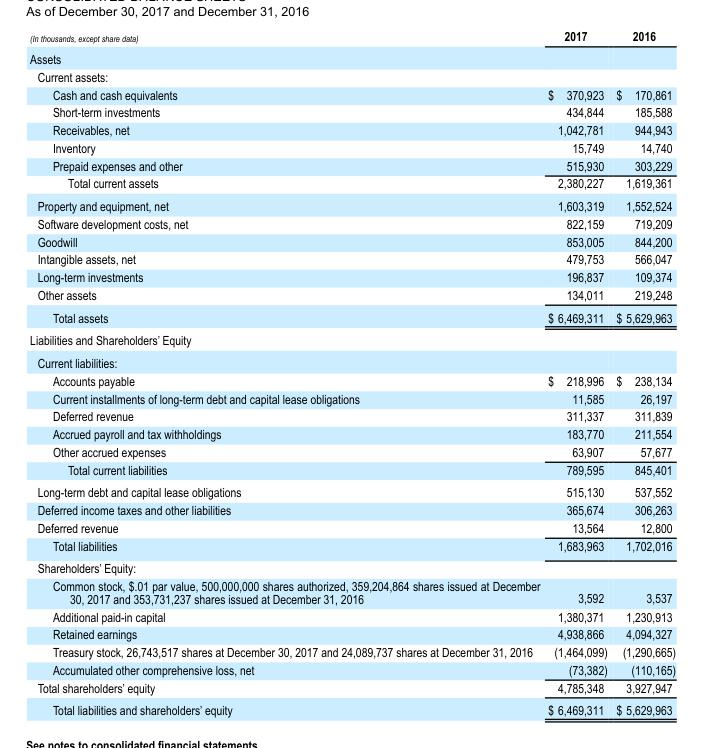table: (29, 28, 675, 717)
table column: (29, 28, 543, 717), (543, 28, 611, 717), (611, 28, 675, 717)
table column header: (29, 28, 675, 47)
table projected row header: (29, 328, 675, 351), (29, 47, 675, 67), (29, 351, 675, 371), (29, 556, 675, 576), (29, 67, 675, 85)
table row: (29, 576, 675, 607), (29, 305, 675, 328), (29, 328, 675, 351), (29, 173, 675, 194), (29, 47, 675, 67), (29, 194, 675, 214), (29, 285, 675, 305), (29, 351, 675, 371), (29, 460, 675, 480), (29, 480, 675, 500), (29, 536, 675, 556), (29, 556, 675, 576), (29, 678, 675, 698), (29, 28, 675, 47), (29, 698, 675, 717), (29, 67, 675, 85), (29, 85, 675, 103), (29, 120, 675, 138), (29, 138, 675, 156), (29, 214, 675, 232), (29, 249, 675, 267), (29, 267, 675, 285), (29, 371, 675, 389), (29, 389, 675, 407), (29, 424, 675, 442), (29, 442, 675, 460), (29, 500, 675, 518), (29, 518, 675, 536), (29, 624, 675, 642), (29, 642, 675, 660), (29, 660, 675, 678), (29, 103, 675, 120), (29, 156, 675, 173), (29, 232, 675, 249), (29, 407, 675, 424), (29, 607, 675, 624)
